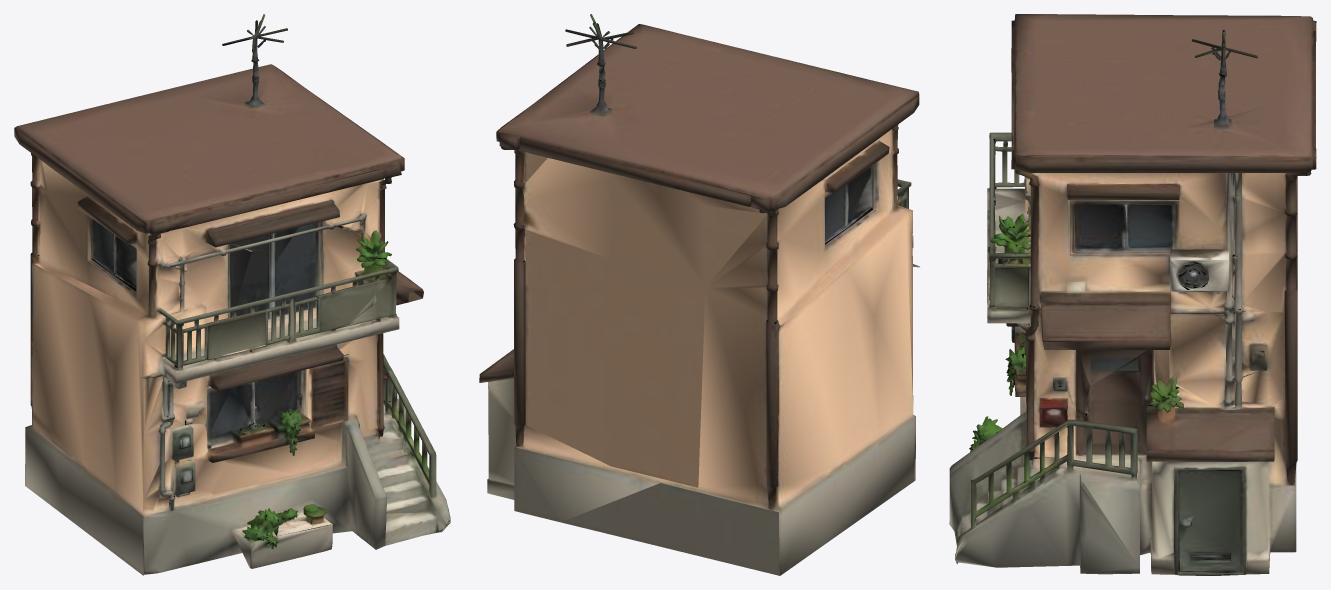
The model's file is building25.glb.
The picture shows the model from 3 angles, left to right: view 1: azimuth 30°, elevation 25°; view 2: azimuth 150°, elevation 25°; view 3: azimuth 270°, elevation 25°; orthographic projection. The views are drawn at different scales.
Visible parts, largest first — view 1: lo; view 2: lo; view 3: lo.
Boxes of the visible parts, bbox=[...] form: lo: bbox=[14, 14, 450, 575]; lo: bbox=[479, 14, 919, 575]; lo: bbox=[949, 14, 1316, 575].
Bounding box in the file's own units: 0.6797 × 0.9834 × 0.6496.
1 material, 1 textured.
